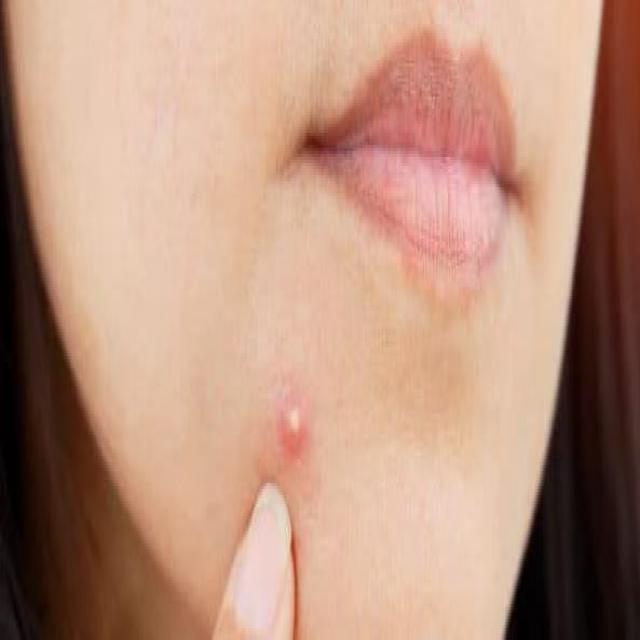blackheads: (281, 383, 303, 444)
